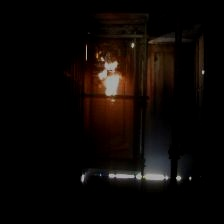fire: (89, 47, 132, 110)
